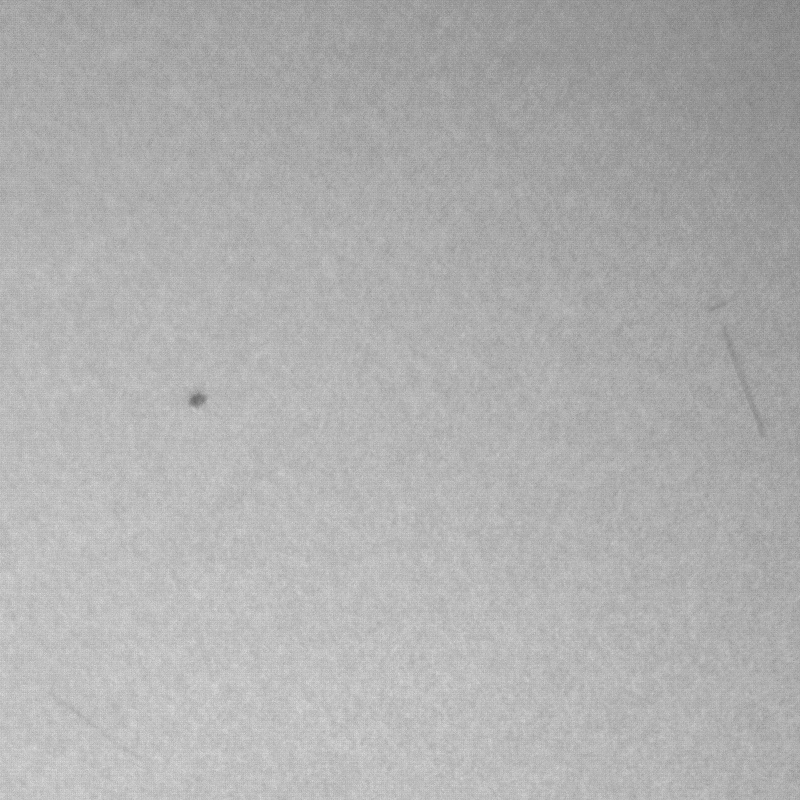defect: (722, 336, 770, 446), (183, 389, 218, 414)
